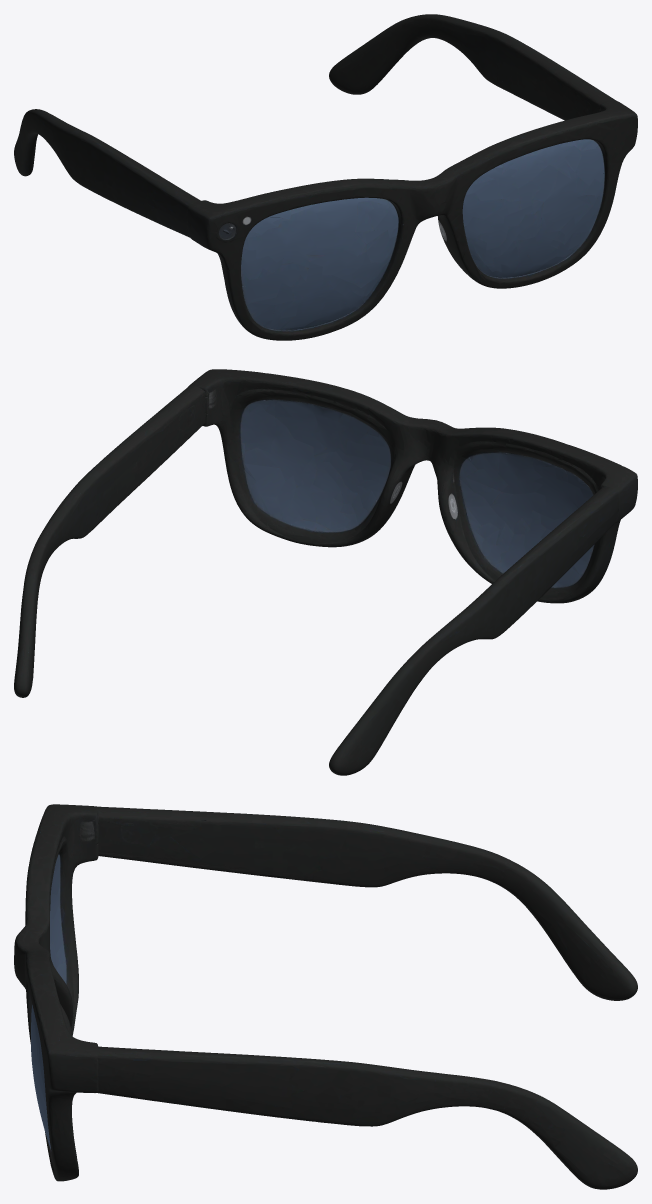
File: glasses.glb
3 renders of one model, top to bottom at view 1: azimuth 30°, elevation 25°; view 2: azimuth 150°, elevation 25°; view 3: azimuth 270°, elevation 25°, orthographic. The views are drawn at different scales.
Visible parts, largest first — view 1: Mesh_0; view 2: Mesh_0; view 3: Mesh_0.
Boxes of the visible parts, left/top/right/bottom form: Mesh_0: left=14, top=14, right=637, bottom=340; Mesh_0: left=14, top=369, right=637, bottom=775; Mesh_0: left=14, top=804, right=637, bottom=1189.
Size of the model in its own units: 1.81 by 0.6154 by 1.9.
Materials: 1 (1 with a texture image).
